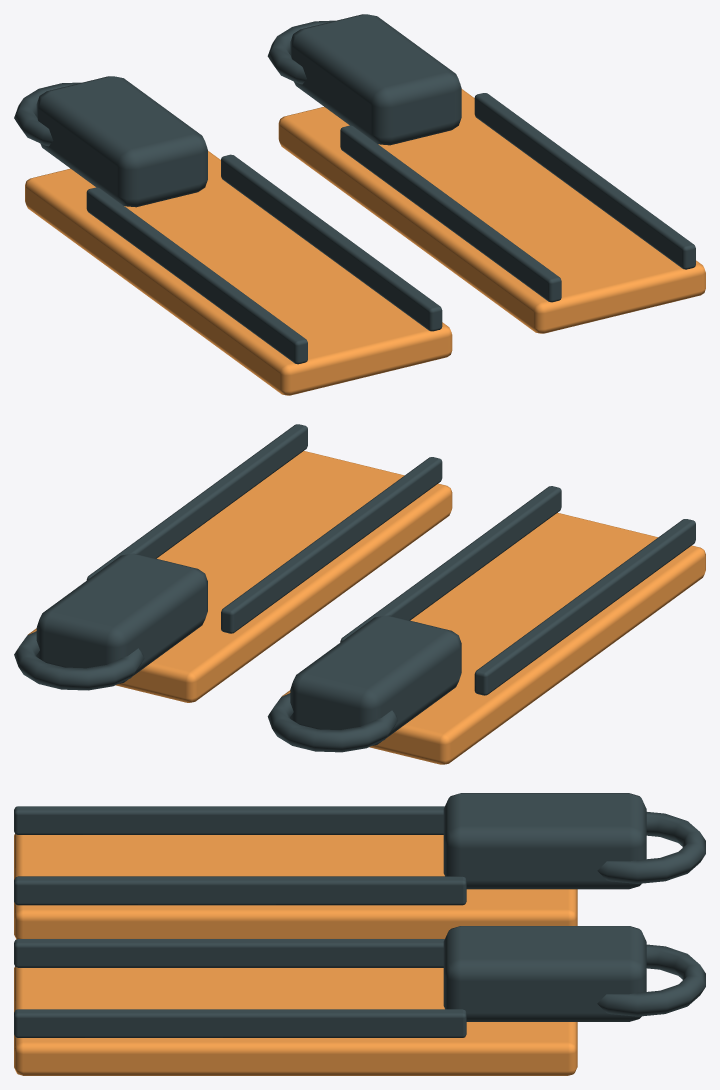
File: diving-and-underwater-salvage-dive-fin-pair-b896fd2f__28447.glb
3 views of the same model, one above another, from view 1: azimuth 30°, elevation 25°; view 2: azimuth 150°, elevation 25°; view 3: azimuth 270°, elevation 25° (orthographic). The views are drawn at different scales.
Visible parts, largest first — view 1: dive-fin-pair-orange, dive-fin-pair-dark; view 2: dive-fin-pair-dark, dive-fin-pair-orange; view 3: dive-fin-pair-dark, dive-fin-pair-orange.
Boxes of the visible parts, left/top/right/bottom form: dive-fin-pair-orange: left=25, top=89, right=705, bottom=395; dive-fin-pair-dark: left=14, top=14, right=695, bottom=364; dive-fin-pair-dark: left=14, top=424, right=695, bottom=752; dive-fin-pair-orange: left=28, top=451, right=705, bottom=764; dive-fin-pair-dark: left=14, top=793, right=705, bottom=1037; dive-fin-pair-orange: left=14, top=834, right=577, bottom=1075.
Size of the model in its own units: 0.57 by 0.11 by 0.7491.
